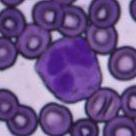E: (35, 36, 102, 102)
